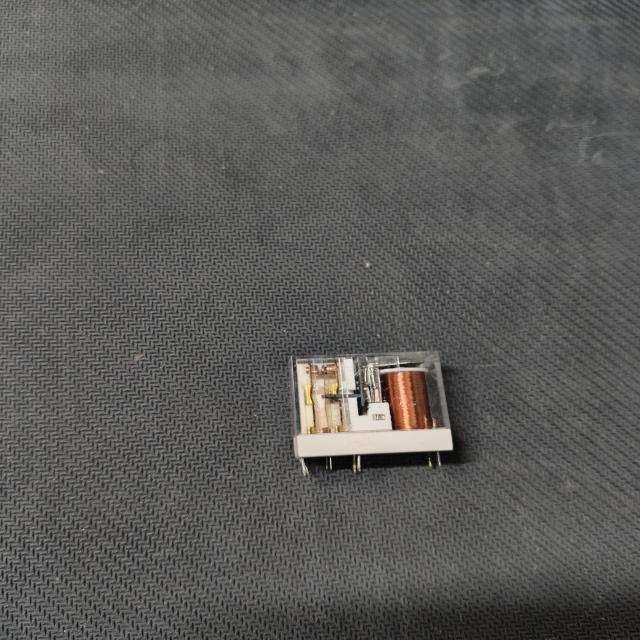relay: (279, 344, 479, 482)
